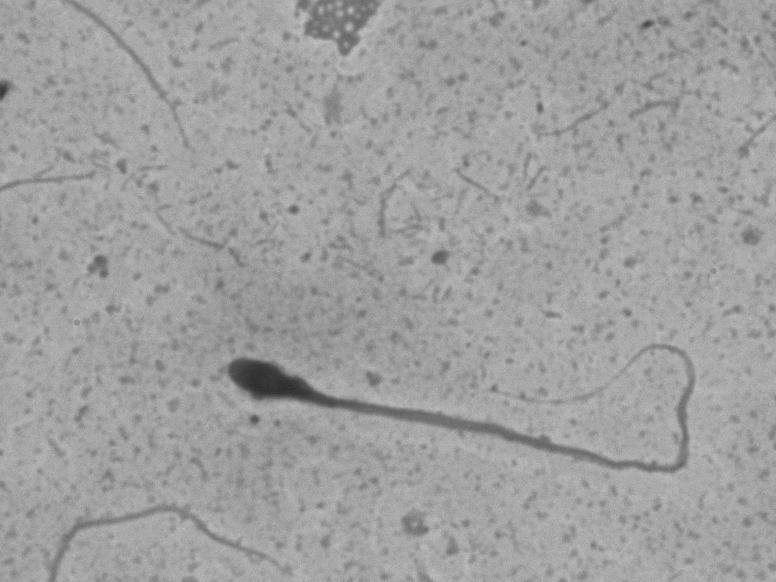Abnormal: (210, 305, 713, 489)
